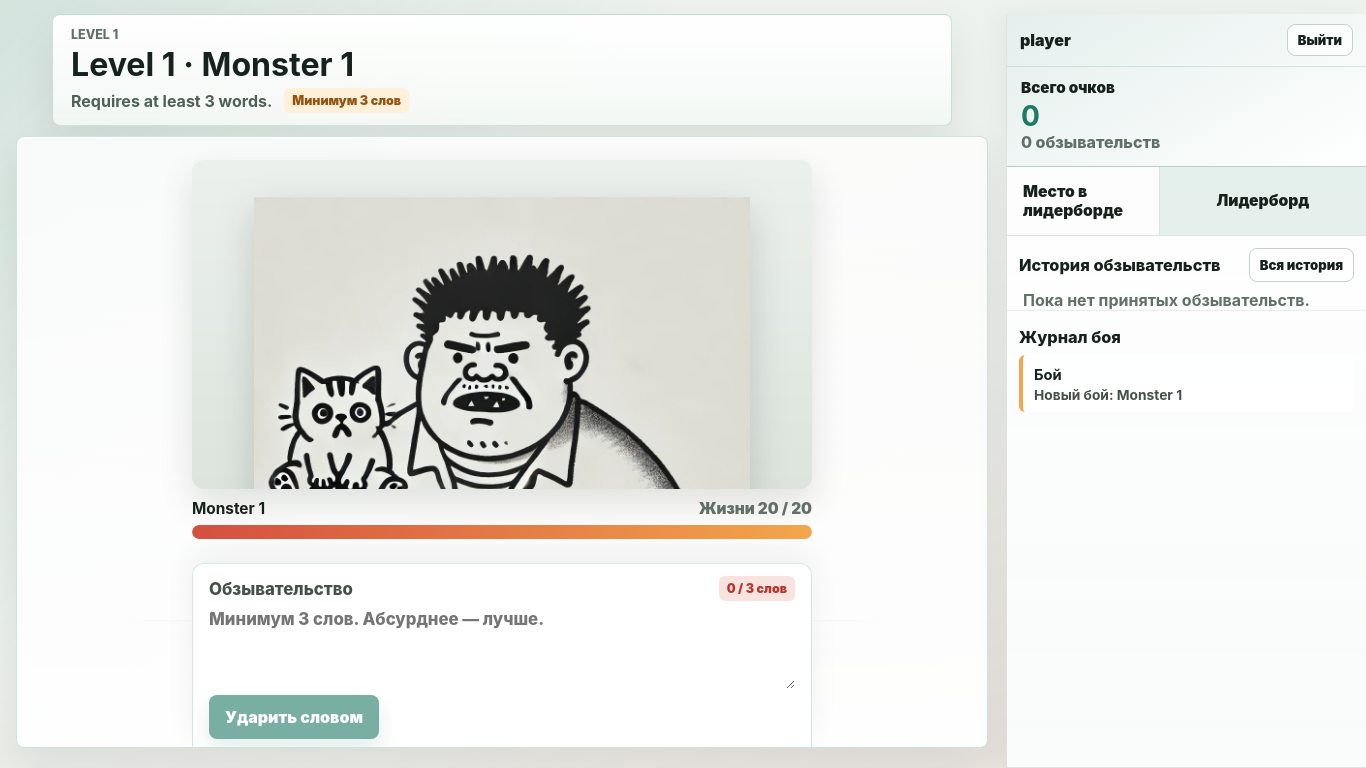
it: App API contract behavior › shows username and lets the authenticated player log out
The width and height of the screenshot is (1366, 768).
Click the button with class "logout-button".
click(1320, 40)  # box [1287,24,1353,56]
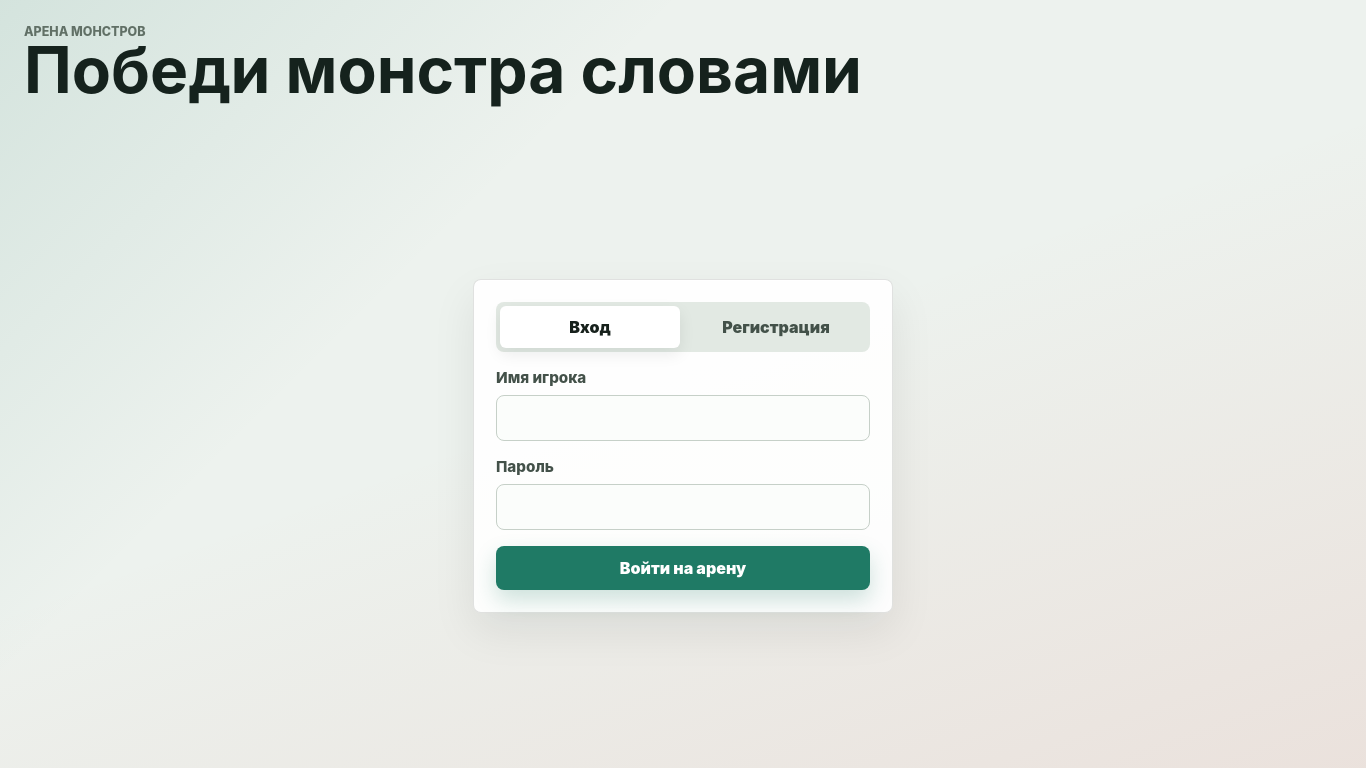
Now the text "Войти на арену" is shown, box [496,546,870,590]
